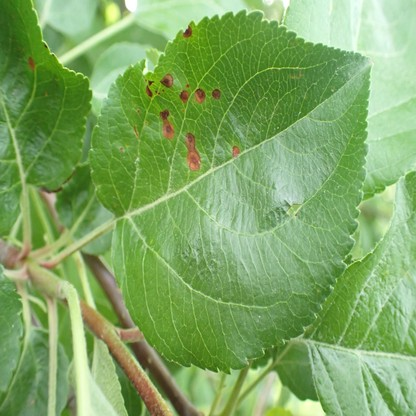frogeye_leaf_spot: (185, 133, 201, 171), (159, 110, 175, 139), (161, 74, 173, 87), (195, 90, 205, 103), (179, 90, 189, 103), (27, 55, 35, 68), (145, 85, 152, 98), (183, 28, 192, 38), (233, 146, 241, 156), (212, 90, 220, 99), (186, 83, 190, 89)
